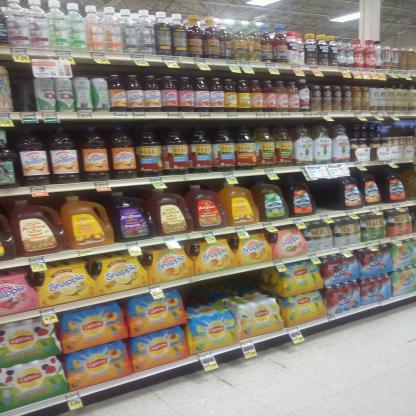Void: (186, 282, 264, 296), (9, 71, 36, 109), (315, 186, 345, 211)
